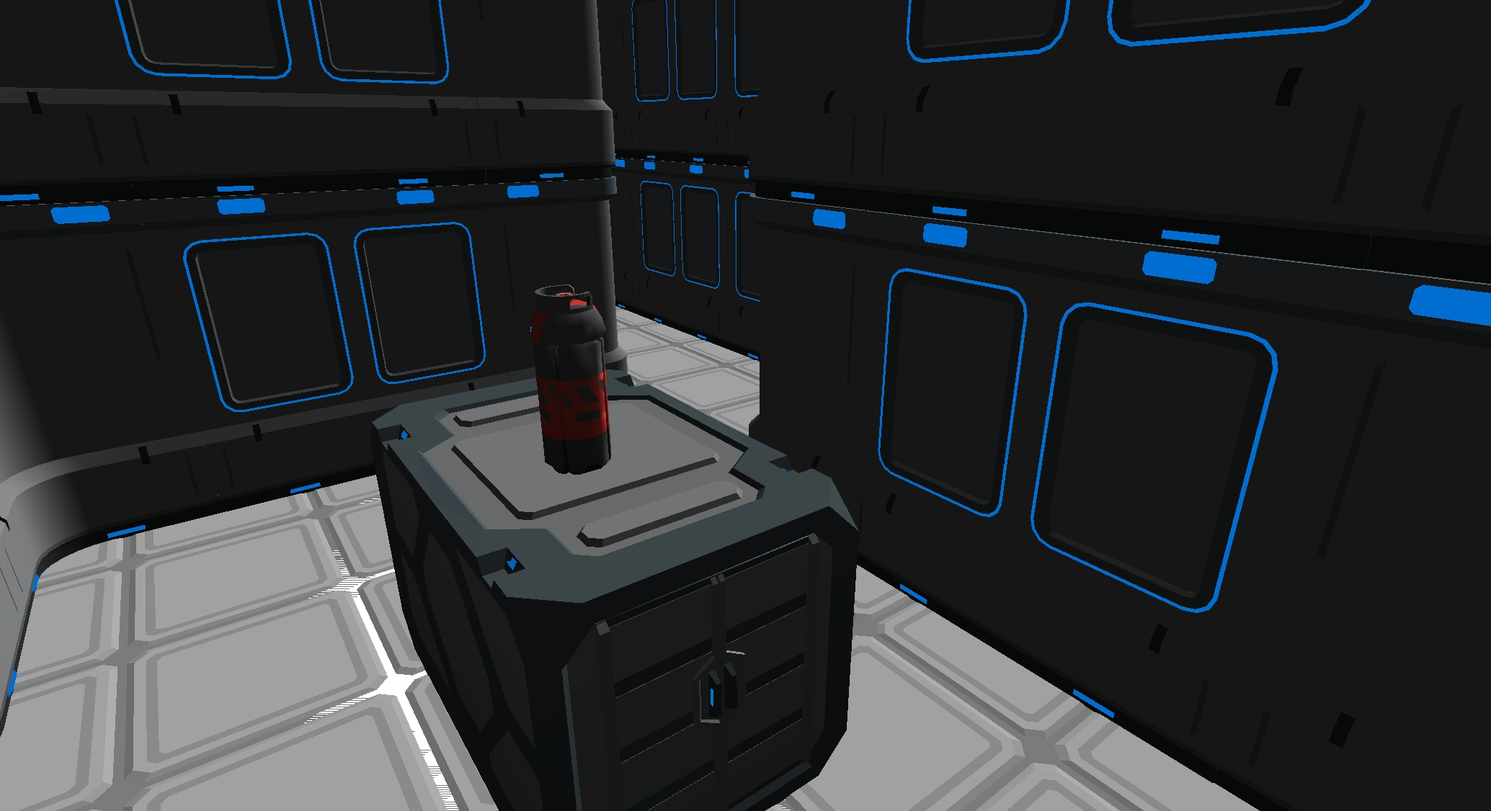red_barrel: (530, 284, 611, 474)
